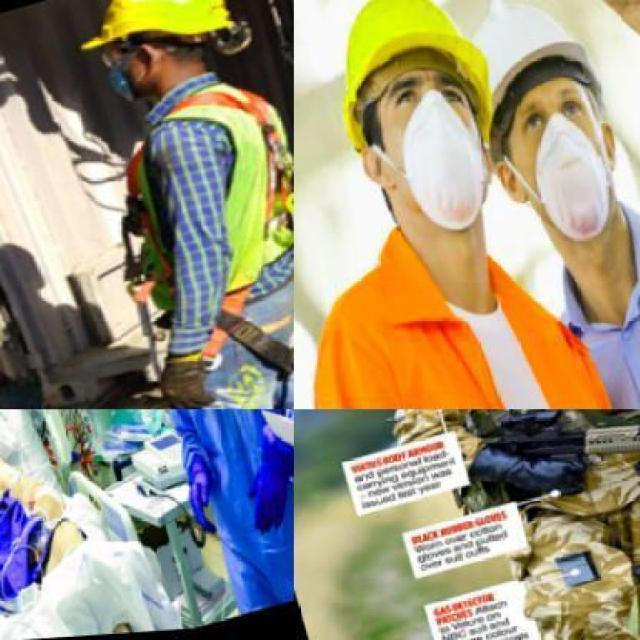hat: (295, 0, 498, 152), (436, 0, 616, 149), (60, 0, 251, 77)
